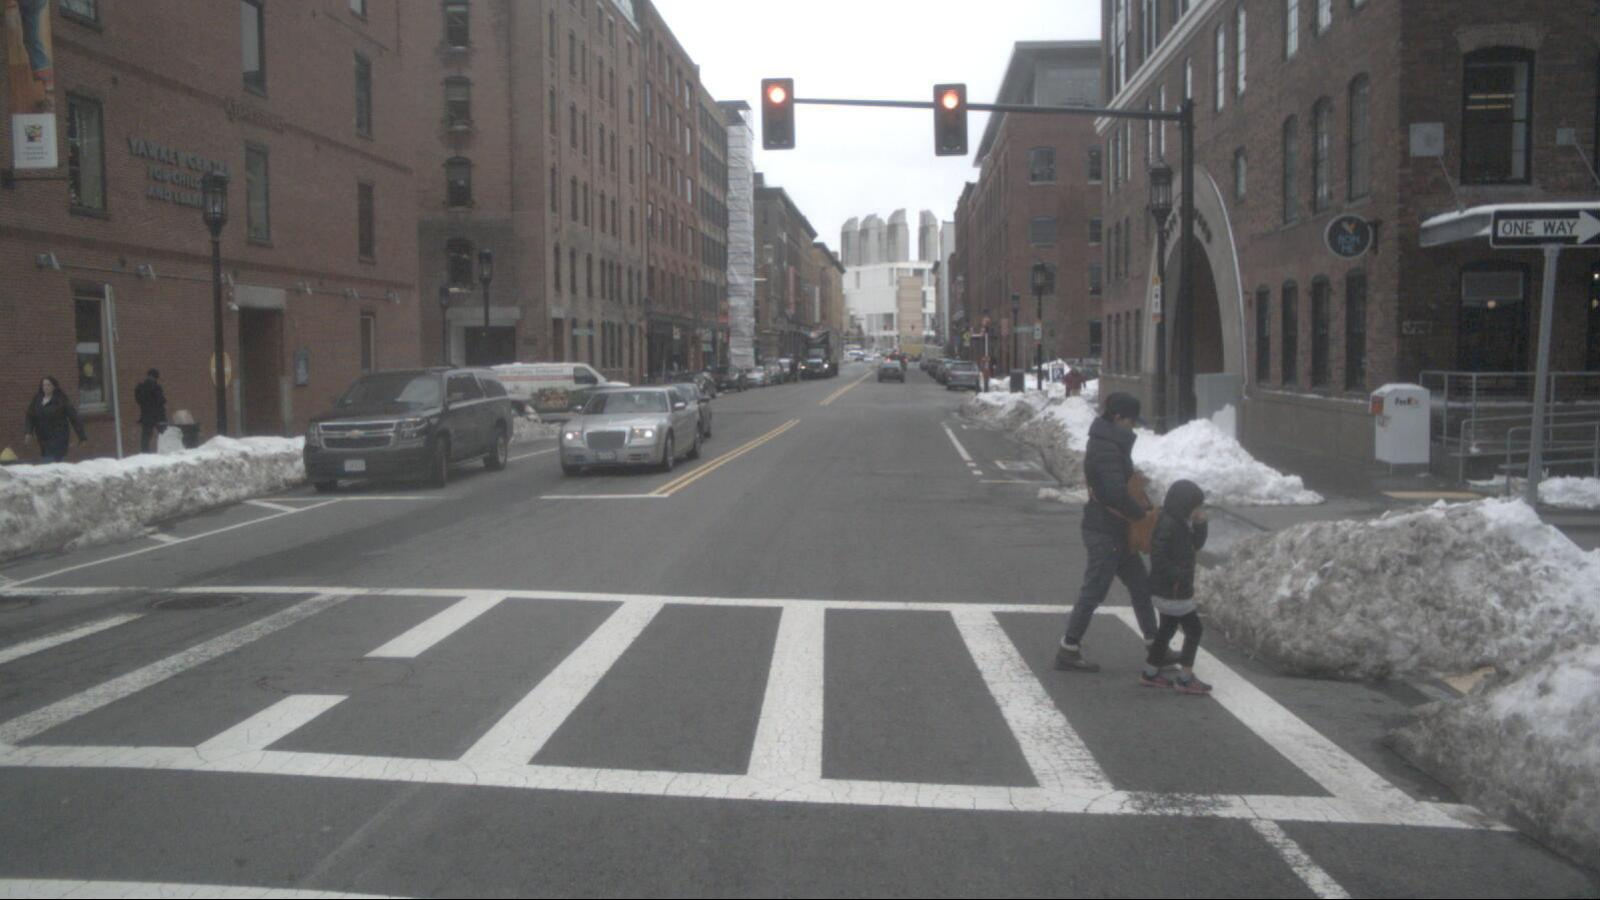human.pedestrian.adult-pedestrian.moving: (1055, 391, 1185, 671), (23, 376, 88, 498), (135, 369, 168, 473), (1069, 369, 1085, 405), (787, 357, 801, 383), (989, 354, 997, 378)
human.pedestrian.child-pedestrian.moving: (1139, 479, 1212, 694)
